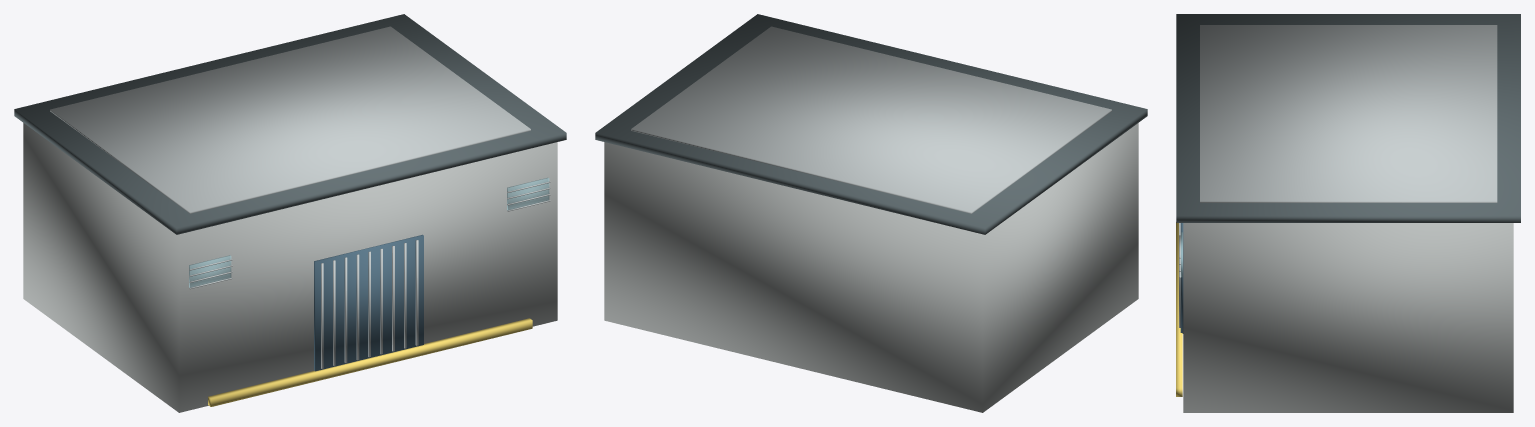
The model's file is building-a.glb.
The picture shows the model from 3 angles, left to right: view 1: azimuth 30°, elevation 25°; view 2: azimuth 150°, elevation 25°; view 3: azimuth 270°, elevation 25°; orthographic projection. The views are drawn at different scales.
Visible parts, largest first — view 1: industrial_mat_00_warehouse_body, industrial_mat_03_door_rib_0, industrial_mat_01_flat_roof_edge, industrial_mat_02_loading_door, industrial_mat_05_safety_curb, industrial_mat_04_high_window_-1; view 2: industrial_mat_00_warehouse_body, industrial_mat_03_door_rib_0, industrial_mat_01_flat_roof_edge; view 3: industrial_mat_00_warehouse_body, industrial_mat_03_door_rib_0, industrial_mat_01_flat_roof_edge, industrial_mat_05_safety_curb, industrial_mat_02_loading_door.
Boxes of the visible parts, left/top/right/bottom form: industrial_mat_00_warehouse_body: left=23, top=123, right=557, bottom=412; industrial_mat_03_door_rib_0: left=50, top=26, right=550, bottom=368; industrial_mat_01_flat_roof_edge: left=14, top=14, right=566, bottom=234; industrial_mat_02_loading_door: left=314, top=234, right=423, bottom=371; industrial_mat_05_safety_curb: left=208, top=318, right=532, bottom=406; industrial_mat_04_high_window_-1: left=189, top=177, right=549, bottom=287; industrial_mat_00_warehouse_body: left=604, top=123, right=1138, bottom=412; industrial_mat_03_door_rib_0: left=631, top=26, right=1111, bottom=213; industrial_mat_01_flat_roof_edge: left=595, top=14, right=1147, bottom=234; industrial_mat_00_warehouse_body: left=1183, top=223, right=1513, bottom=412; industrial_mat_03_door_rib_0: left=1179, top=25, right=1497, bottom=327; industrial_mat_01_flat_roof_edge: left=1176, top=14, right=1520, bottom=222; industrial_mat_05_safety_curb: left=1176, top=222, right=1182, bottom=396; industrial_mat_02_loading_door: left=1180, top=223, right=1183, bottom=333.
Bounding box in the file's own units: 11.85 × 5.53 × 8.56.
